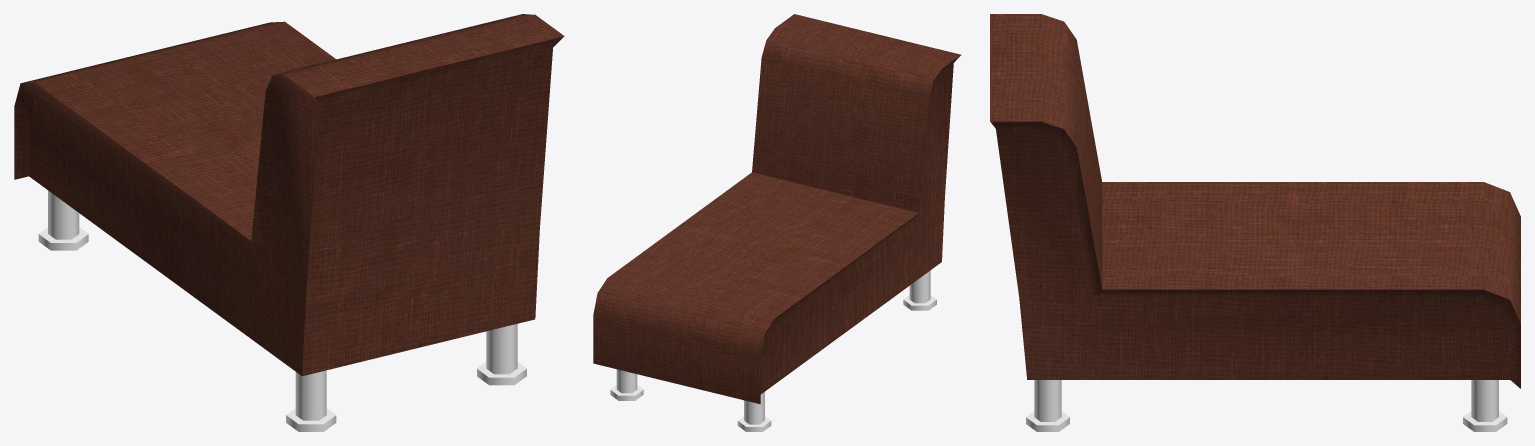
The model's file is Armchair_12.glb.
3 renders of one model, left to right at view 1: azimuth 30°, elevation 25°; view 2: azimuth 150°, elevation 25°; view 3: azimuth 270°, elevation 25°, orthographic. The views are drawn at different scales.
Visible parts, largest first — view 1: Armchair_12; view 2: Armchair_12; view 3: Armchair_12.
Part boxes in pixels (x1,y1,x2,y2): Armchair_12: (14, 14, 564, 431); Armchair_12: (593, 14, 961, 431); Armchair_12: (990, 14, 1520, 431).
Bounding box in the file's own units: 0.86 × 1.17 × 1.79.
Materials: 2 (1 with a texture image).
